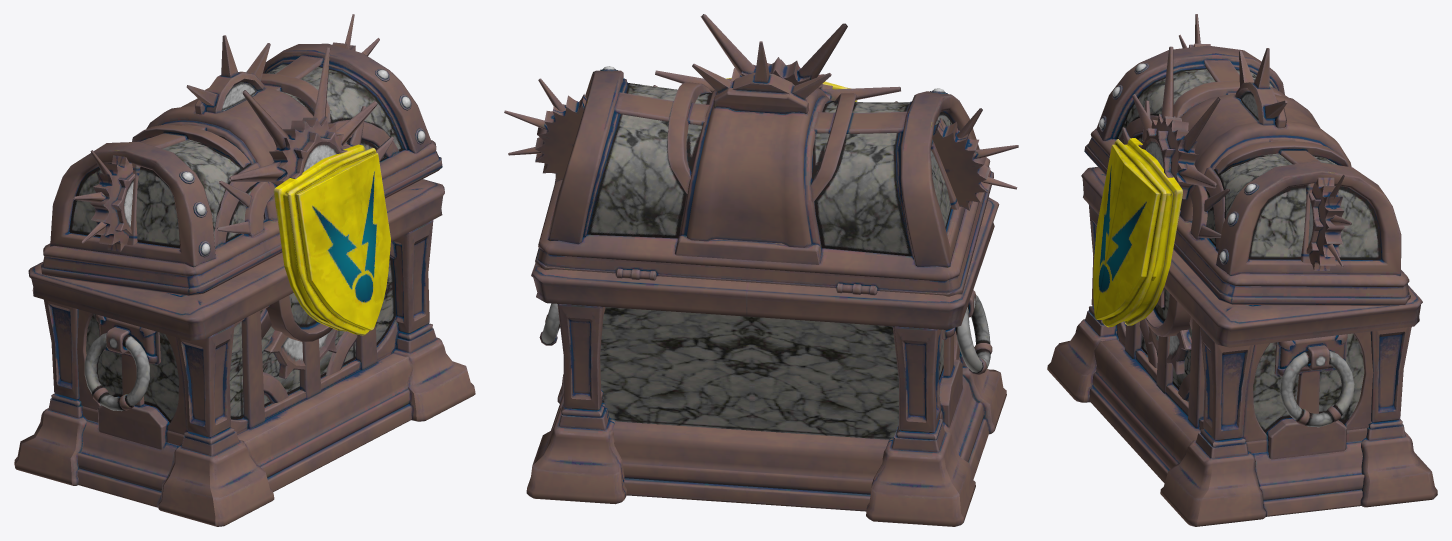
Rendered from VictoryChest_VIPCommon.fbx.
3 renders of one model, left to right at view 1: azimuth 30°, elevation 25°; view 2: azimuth 150°, elevation 25°; view 3: azimuth 270°, elevation 25°, orthographic. The views are drawn at different scales.
Visible parts, largest first — view 1: ChestMain, ChestTop; view 2: ChestMain, ChestTop; view 3: ChestMain, ChestTop.
Part boxes in pixels (x1,y1,x2,y2): ChestMain: (14, 179, 475, 526); ChestTop: (41, 14, 442, 335); ChestMain: (526, 197, 1006, 526); ChestTop: (504, 14, 1018, 296); ChestMain: (1047, 167, 1437, 526); ChestTop: (1084, 14, 1410, 327).
Size of the model in its own units: 5.25 by 4.79 by 4.37.
1 material, 1 textured.
